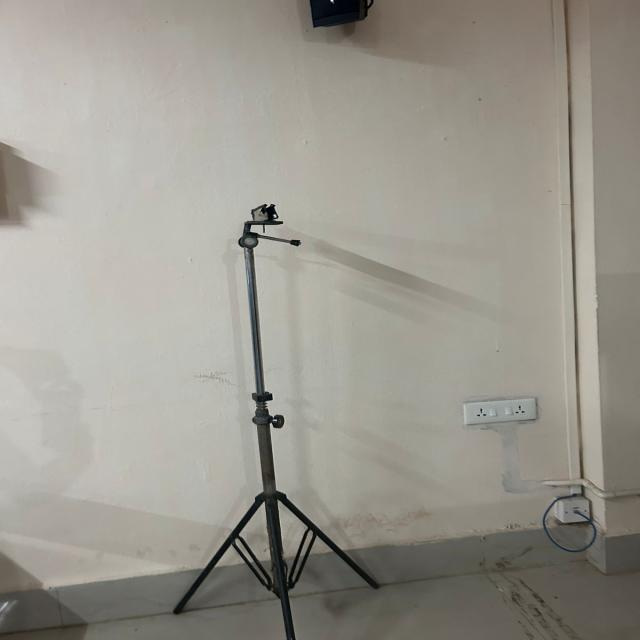barrier ahead at: (169, 186, 407, 638)
